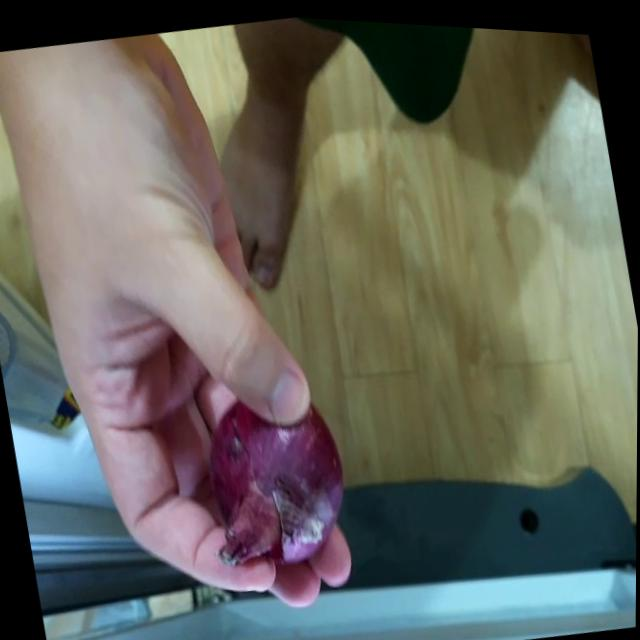onion: (200, 377, 367, 576)
